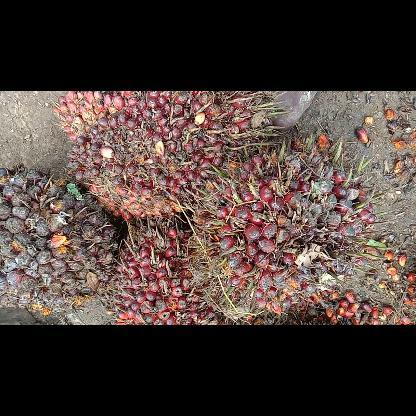Kurang masak: (0, 160, 123, 319)
TBS masak: (184, 140, 378, 314), (51, 90, 276, 222), (103, 214, 231, 324)
